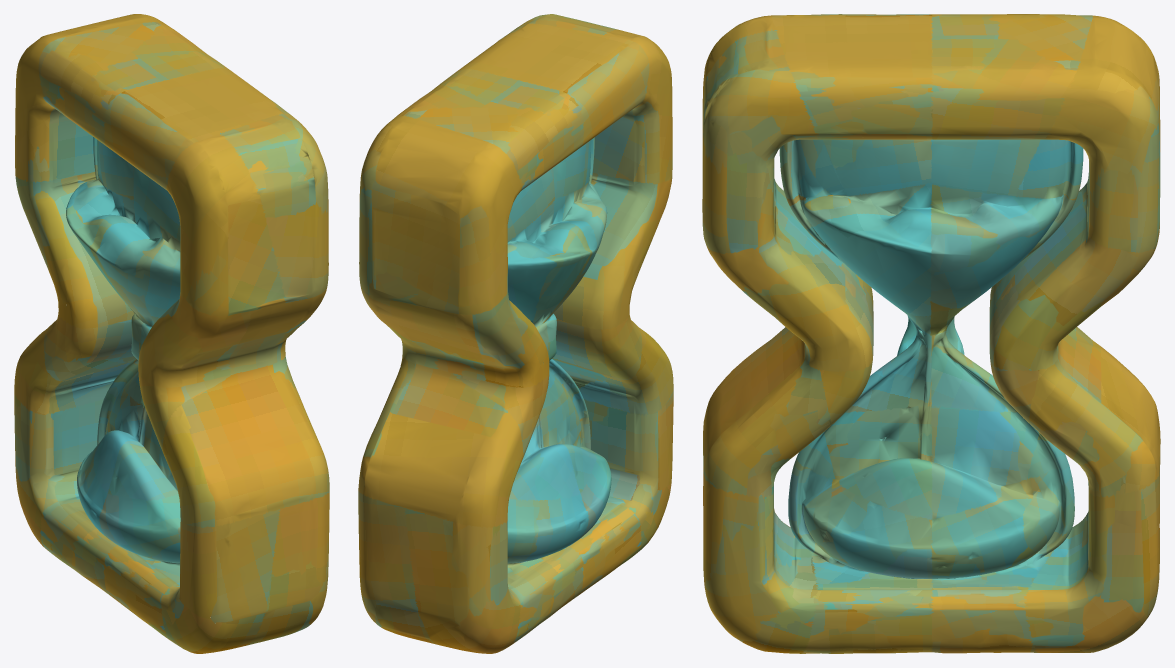
File: prop_hourglass.glb
3 renders of one model, left to right at view 1: azimuth 30°, elevation 25°; view 2: azimuth 150°, elevation 25°; view 3: azimuth 270°, elevation 25°, orthographic. The views are drawn at different scales.
Parts seen in each view (by area): view 1: tripo_node_ee2b6fe5-fd61-41a8-a235-5dcc43d35cac; view 2: tripo_node_ee2b6fe5-fd61-41a8-a235-5dcc43d35cac; view 3: tripo_node_ee2b6fe5-fd61-41a8-a235-5dcc43d35cac.
Part boxes in pixels (left/top/right/bottom): tripo_node_ee2b6fe5-fd61-41a8-a235-5dcc43d35cac: left=14, top=14, right=329, bottom=653; tripo_node_ee2b6fe5-fd61-41a8-a235-5dcc43d35cac: left=358, top=14, right=673, bottom=653; tripo_node_ee2b6fe5-fd61-41a8-a235-5dcc43d35cac: left=702, top=14, right=1160, bottom=653.
Size of the model in its own units: 0.2987 by 0.9786 by 0.6944.
Materials: 1 (1 with a texture image).
